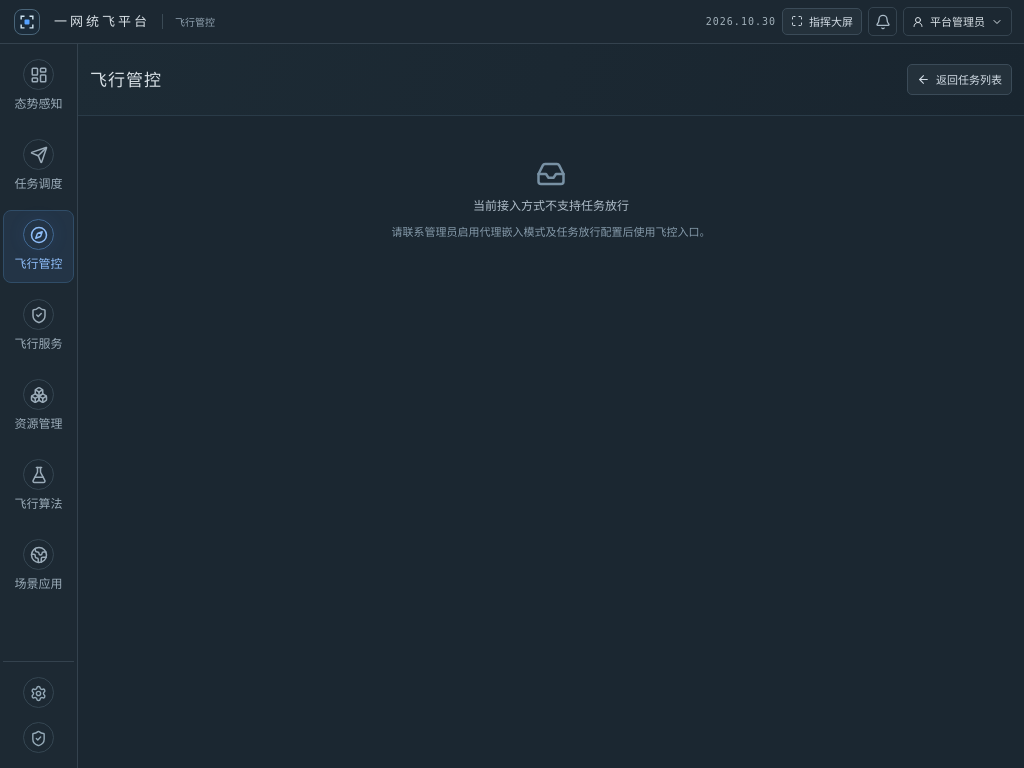
Test: application authentication integration › rejects the direct native mode and still permits platform logout
Expected: the text "当前接入方式不支持任务放行" is shown, [473,196,629,215]
Click the button "平台管理员".
click(958, 22)  # box [903,7,1012,36]
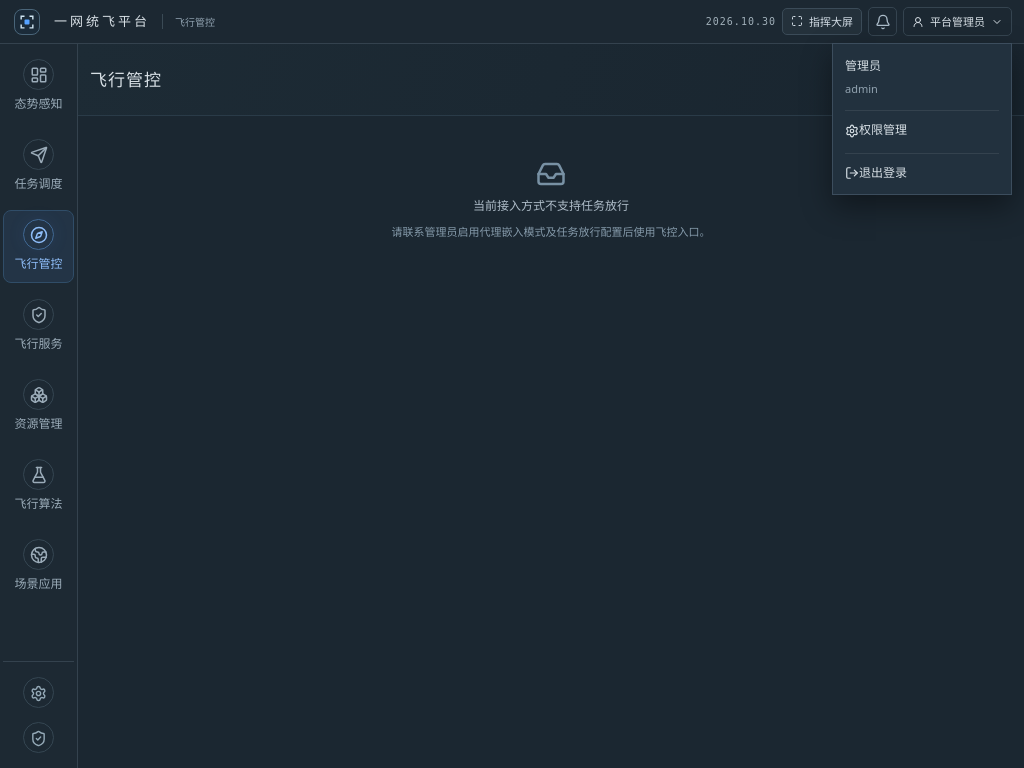
Click the button "退出登录".
click(922, 167)  # box [845,153,999,182]
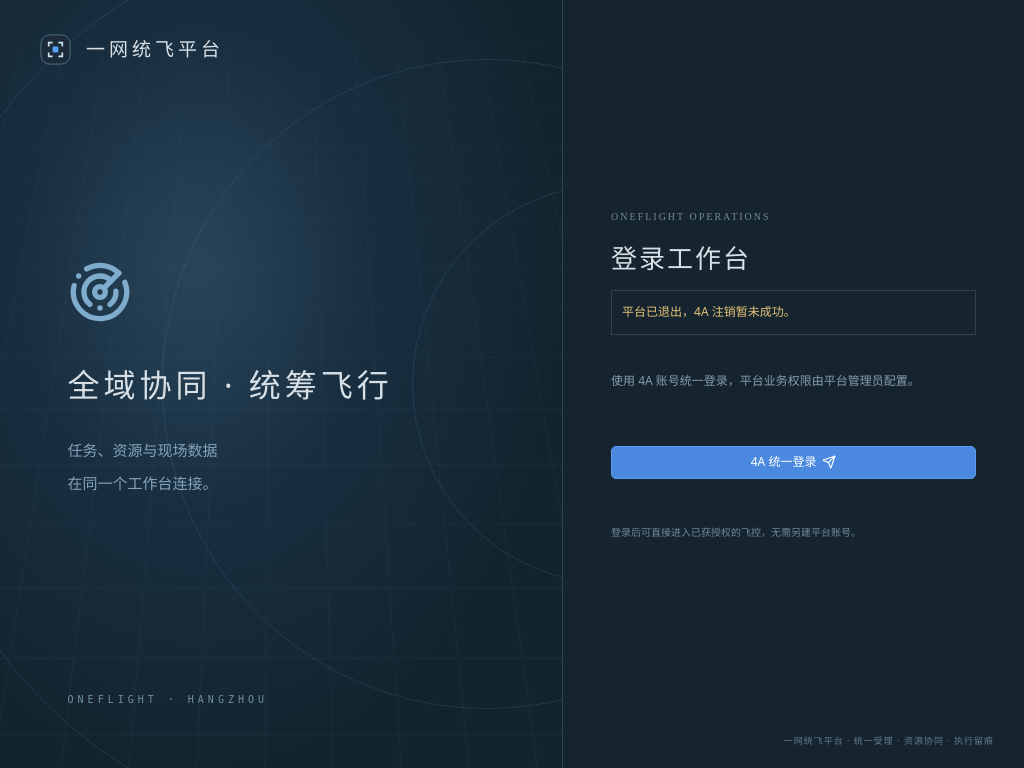
Expected: the text "平台已退出，4A 注销暂未成功。" is shown, [611,290,976,335]
